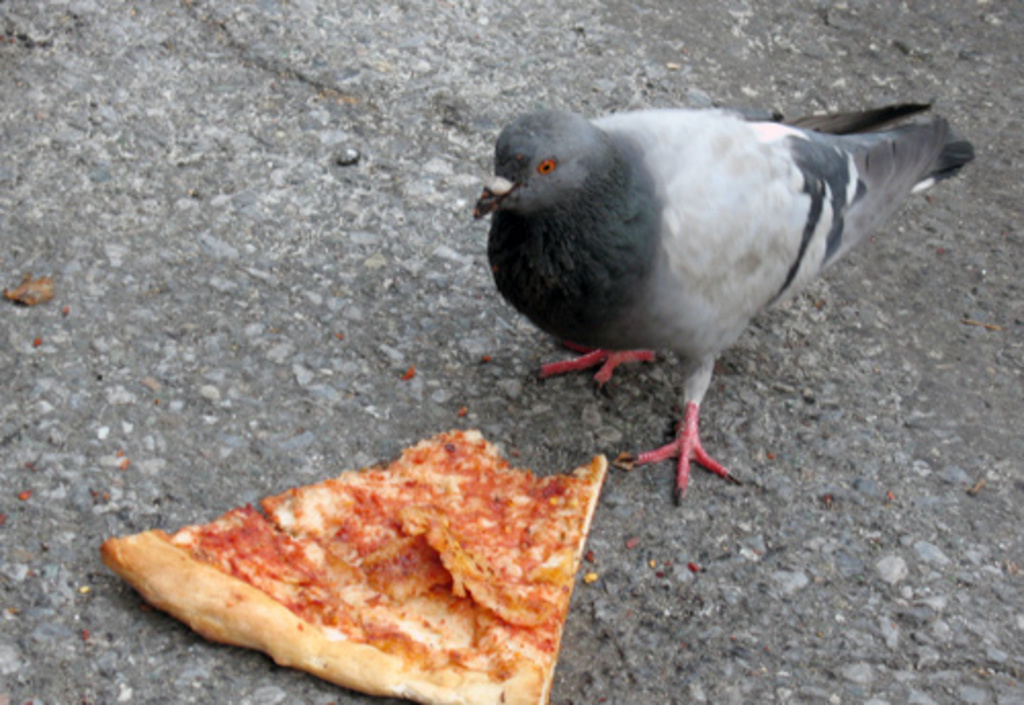Pizza: (73, 432, 649, 696)
